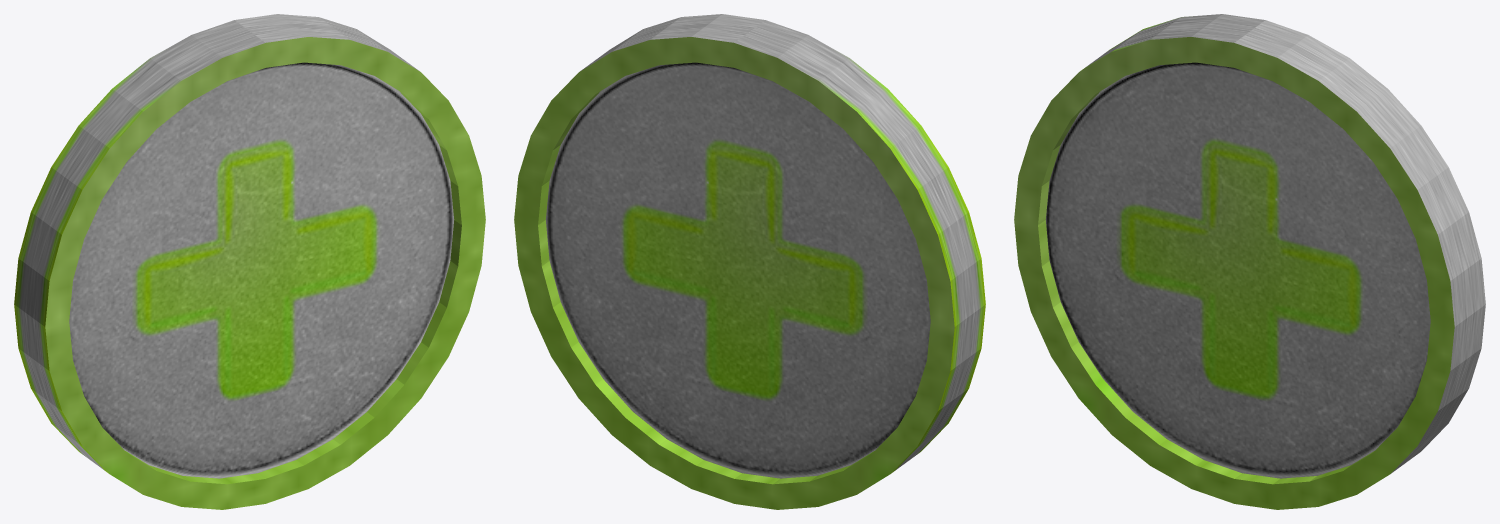
File: TokenHealth.fbx
3 views of the same model, side by side, from view 1: azimuth 30°, elevation 25°; view 2: azimuth 150°, elevation 25°; view 3: azimuth 330°, elevation 25° (orthographic).
Visible parts, largest first — view 1: Cylinder; view 2: Cylinder; view 3: Cylinder.
Part boxes in pixels (x1,y1,x2,y2): Cylinder: (14, 14, 485, 509); Cylinder: (514, 14, 985, 509); Cylinder: (1014, 14, 1485, 509).
Bounding box in the file's own units: 200 × 200 × 24.54.
1 material, 1 textured.
